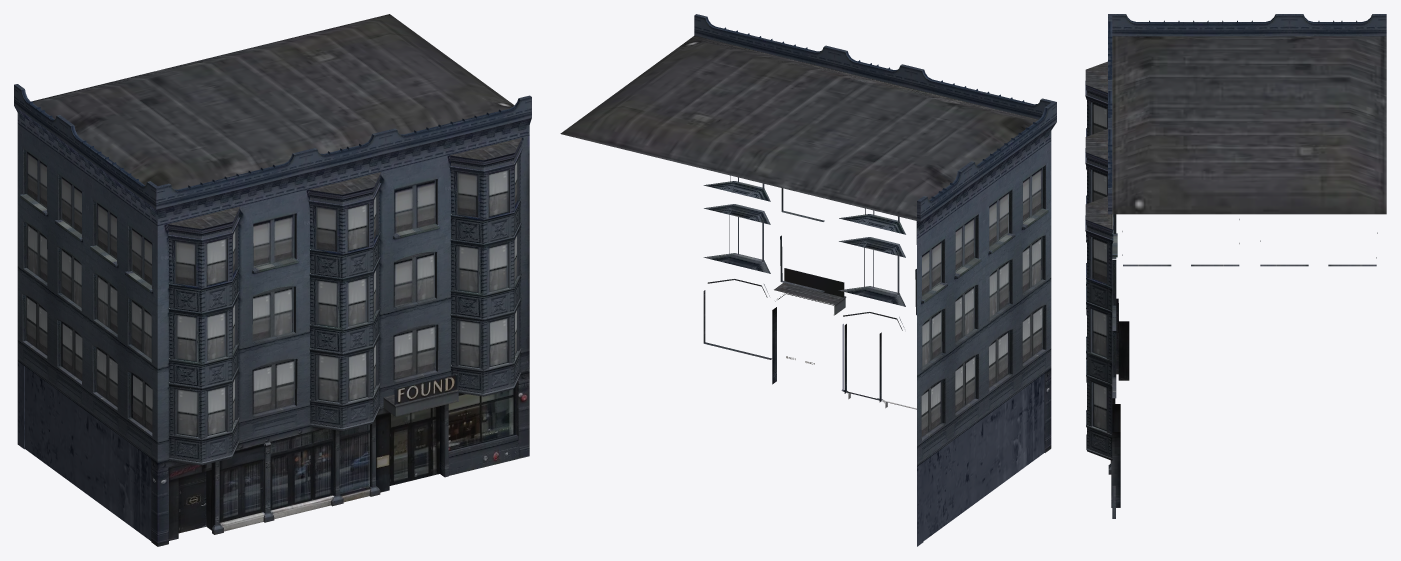
Rendered from chicago1.glb.
3 renders of one model, left to right at view 1: azimuth 30°, elevation 25°; view 2: azimuth 150°, elevation 25°; view 3: azimuth 270°, elevation 25°, orthographic. The views are drawn at different scales.
Parts seen in each view (by area): view 1: chicago1; view 2: chicago1; view 3: chicago1.
Part boxes in pixels (<box>): chicago1: <box>14,14,531,546</box>; chicago1: <box>560,14,1056,546</box>; chicago1: <box>1085,14,1386,518</box>.
Bounding box in the file's own units: 77.81 × 71.38 × 55.15.
Materials: 1 (1 with a texture image).
